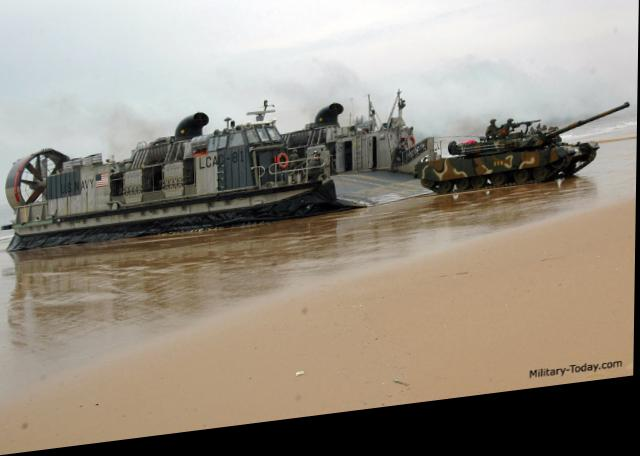tank: (416, 104, 603, 215)
